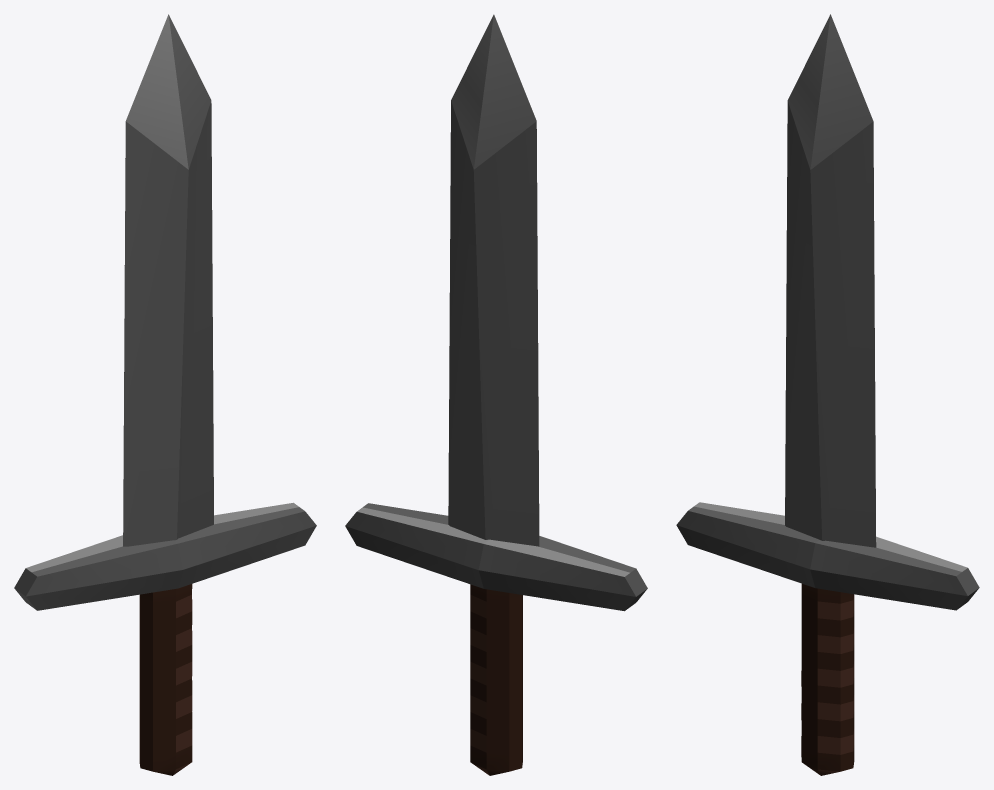
The model's file is Sword03.fbx.
3 views of the same model, side by side, from view 1: azimuth 30°, elevation 25°; view 2: azimuth 150°, elevation 25°; view 3: azimuth 330°, elevation 25° (orthographic).
Visible parts, largest first — view 1: SwordLong; view 2: SwordLong; view 3: SwordLong.
Part boxes in pixels (x1=…): SwordLong: x1=14, y1=14, x2=316, y2=775; SwordLong: x1=345, y1=14, x2=647, y2=775; SwordLong: x1=676, y1=14, x2=979, y2=775.
Bounding box in the file's own units: 0.1383 × 0.3432 × 0.0331.
